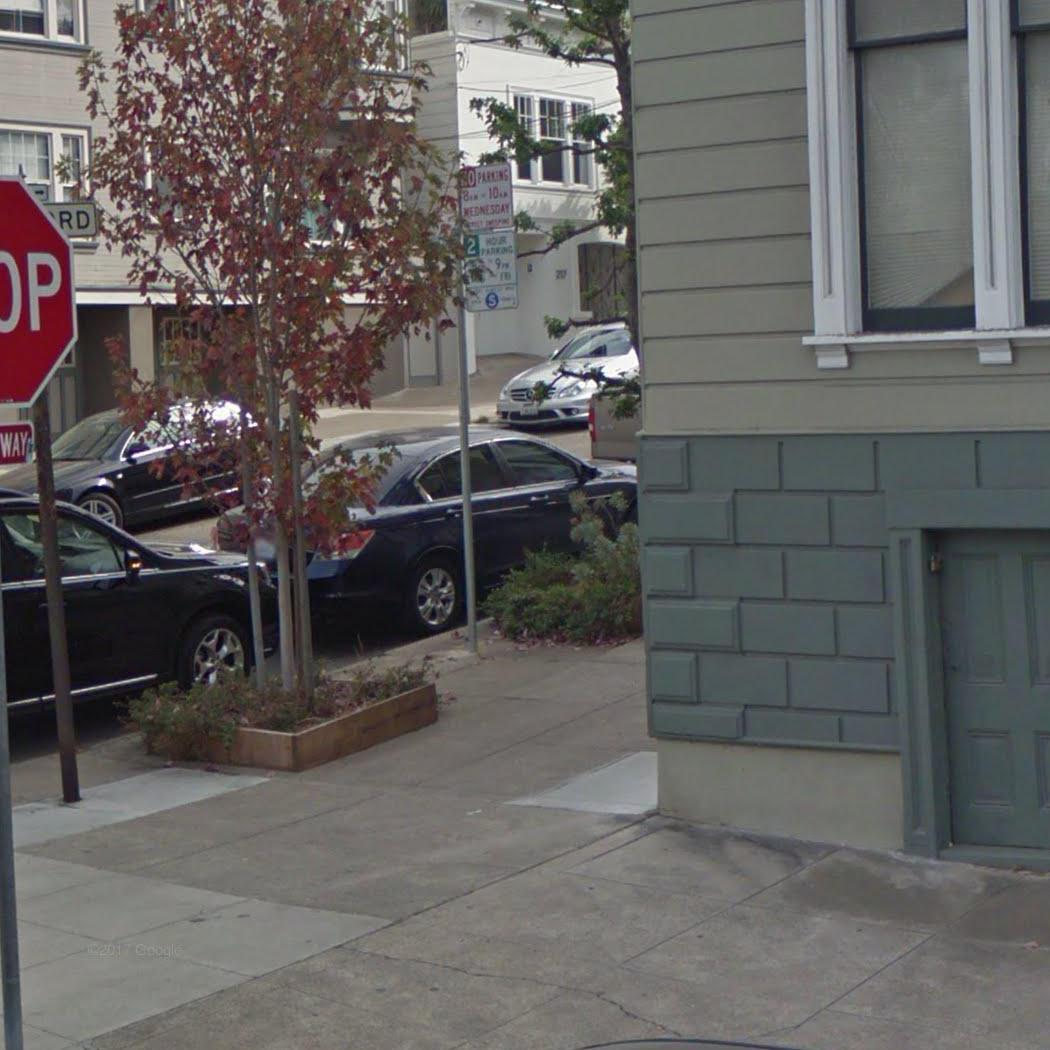2 Hour Parking: (461, 230, 520, 312)
No Parking: (456, 160, 515, 232)
